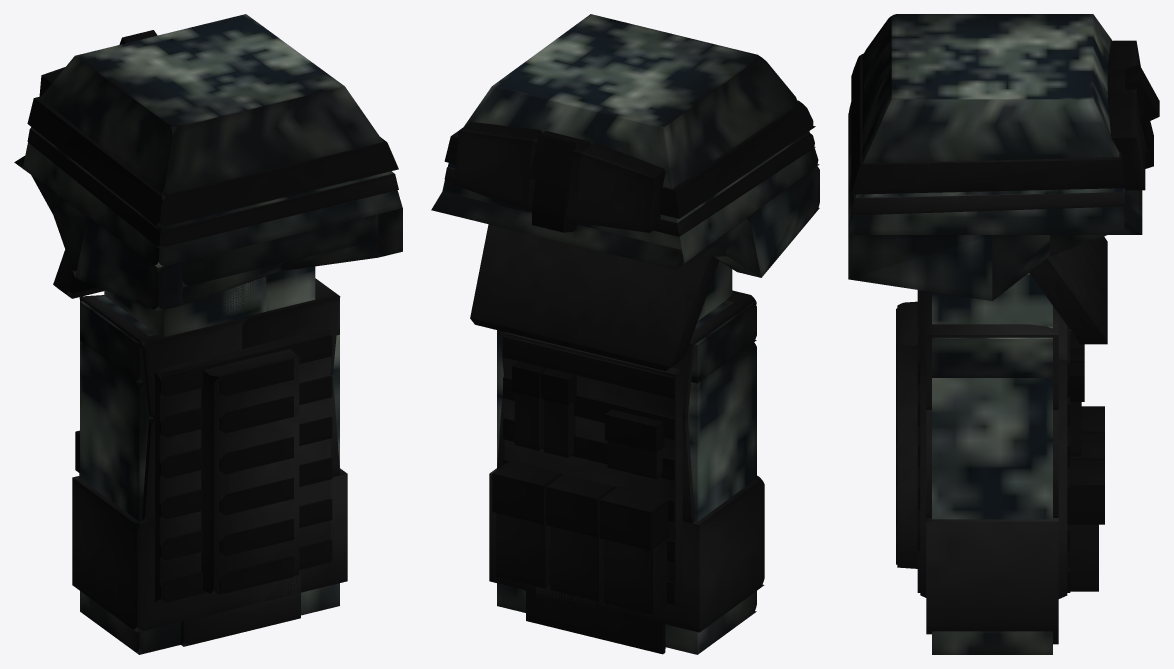
Rendered from marineblue.obj.
3 views of the same model, side by side, from view 1: azimuth 30°, elevation 25°; view 2: azimuth 150°, elevation 25°; view 3: azimuth 270°, elevation 25° (orthographic).
Parts seen in each view (by area): view 1: headModel1, bodyModel0, bodyModel31, bodyModel38, headModel15, bodyModel16, headModel0, headModel11, headModel4, headModel8, bodyModel2, rightArmModel0 (+22 smaller); view 2: headModel1, headModel12, bodyModel38, bodyModel0, bodyModel4, headModel17, headModel16, headModel0, headModel15, headModel14, bodyModel11, bodyModel14 (+27 smaller); view 3: headModel1, bodyModel38, bodyModel0, headModel15, headModel0, headModel7, bodyModel31, headModel12, bodyModel40, headModel11, leftArmModel0, bodyModel3 (+16 smaller).
Part boxes in pixels (box(x1,y1,x2,y2)): headModel1: box(40, 14, 383, 194); bodyModel0: box(72, 468, 347, 632); bodyModel31: box(201, 349, 299, 595); bodyModel38: box(80, 334, 339, 654); headModel15: box(27, 96, 398, 227); bodyModel16: box(136, 328, 330, 604); headModel0: box(22, 127, 402, 267); headModel11: box(27, 128, 398, 248); headModel4: box(75, 216, 182, 311); headModel8: box(182, 214, 378, 287); bodyModel2: box(79, 295, 242, 418); rightArmModel0: box(104, 276, 266, 344); headModel1: box(457, 14, 797, 188); headModel12: box(470, 224, 719, 367); bodyModel38: box(497, 334, 756, 654); bodyModel0: box(489, 468, 764, 632); bodyModel4: box(504, 332, 682, 605); headModel17: box(576, 143, 665, 232); headModel16: box(454, 122, 542, 210); headModel0: box(442, 131, 819, 263); headModel15: box(444, 100, 815, 218); headModel14: box(431, 191, 683, 269); bodyModel11: box(526, 590, 665, 654); bodyModel14: box(604, 538, 668, 614); headModel1: box(862, 14, 1119, 163); bodyModel38: box(932, 378, 1052, 654); bodyModel0: box(926, 518, 1058, 631); headModel15: box(851, 53, 1124, 194); headModel0: box(848, 102, 1124, 234); headModel7: box(848, 235, 992, 300); bodyModel31: box(897, 301, 919, 568); headModel12: box(1029, 236, 1107, 341); bodyModel40: box(932, 326, 1052, 377); headModel11: box(851, 188, 1124, 215); leftArmModel0: box(932, 273, 1052, 326); bodyModel3: box(926, 291, 1058, 409).
Bounding box in the file's own units: 11 × 21.2 × 10.8.
